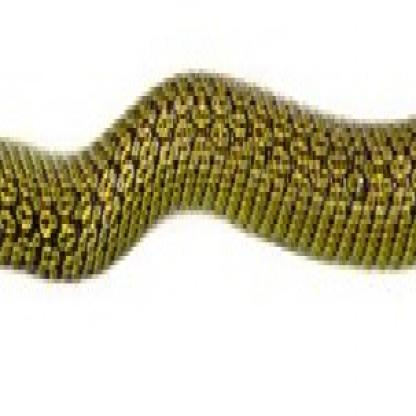snakes: (3, 46, 414, 297)
